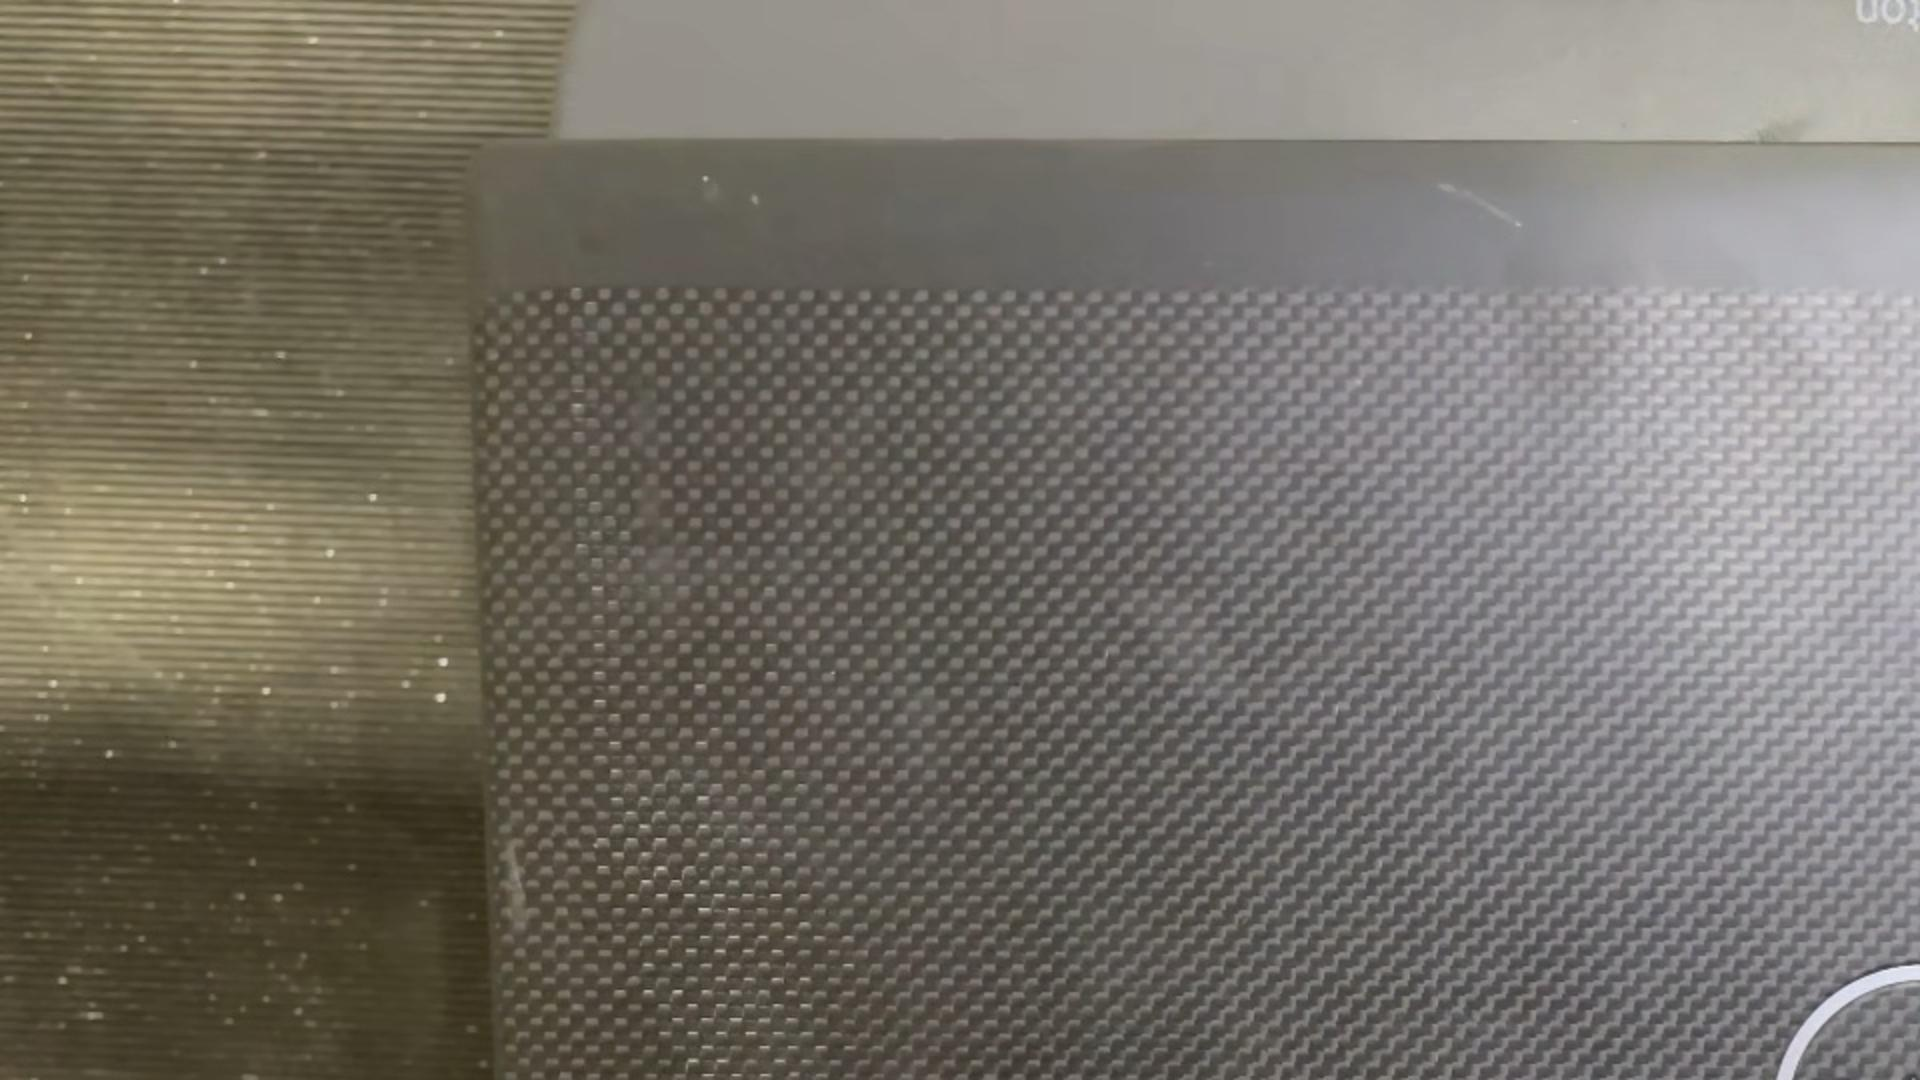scratches: (1432, 178, 1530, 236), (593, 1075, 608, 1080)
